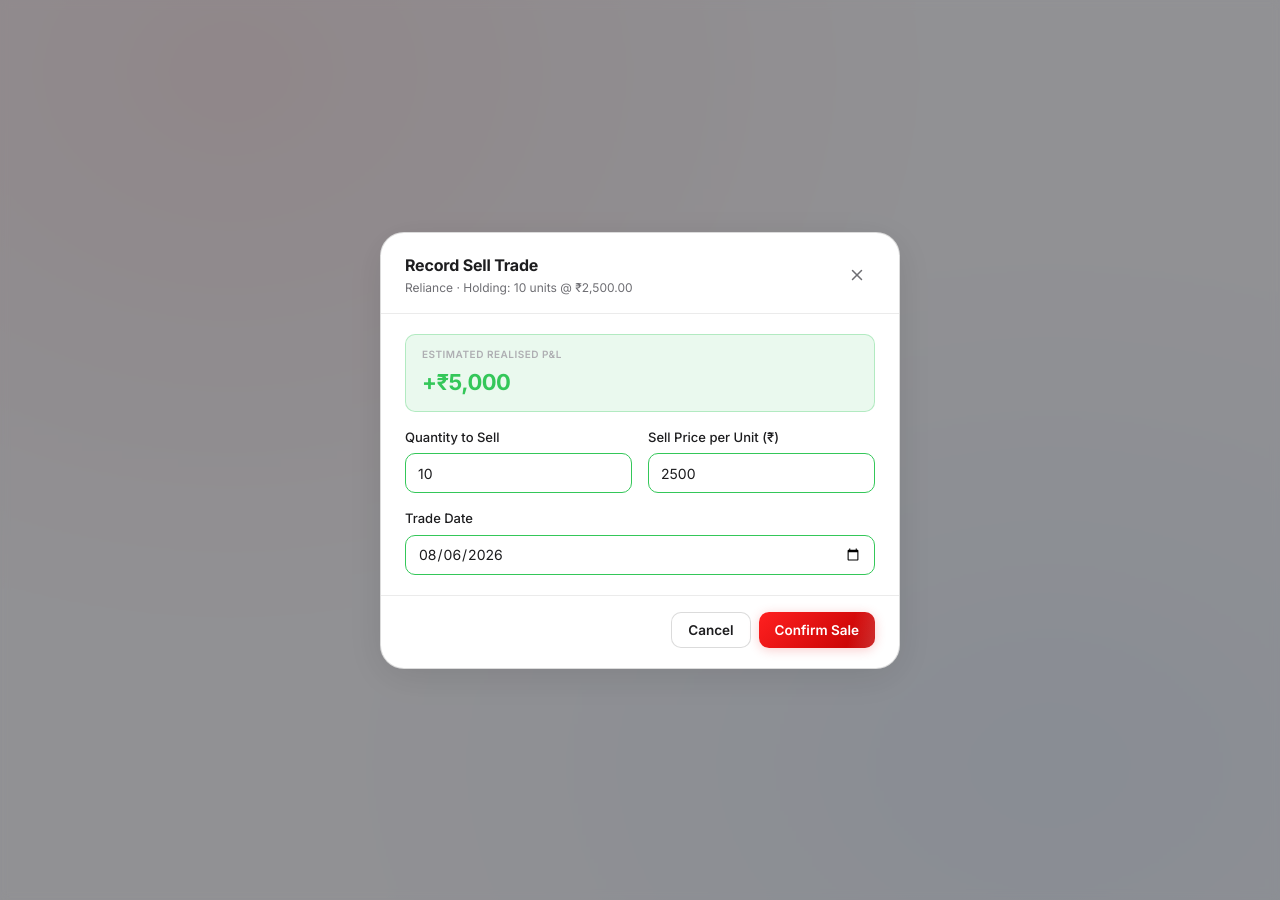
Scenario: SellForm — validation › shows error when sell price is 0
Replace the text in the number field showing "2500" below "Sell Price per Unit (₹)" with "0" at (762, 473), box [648,453,875,493]
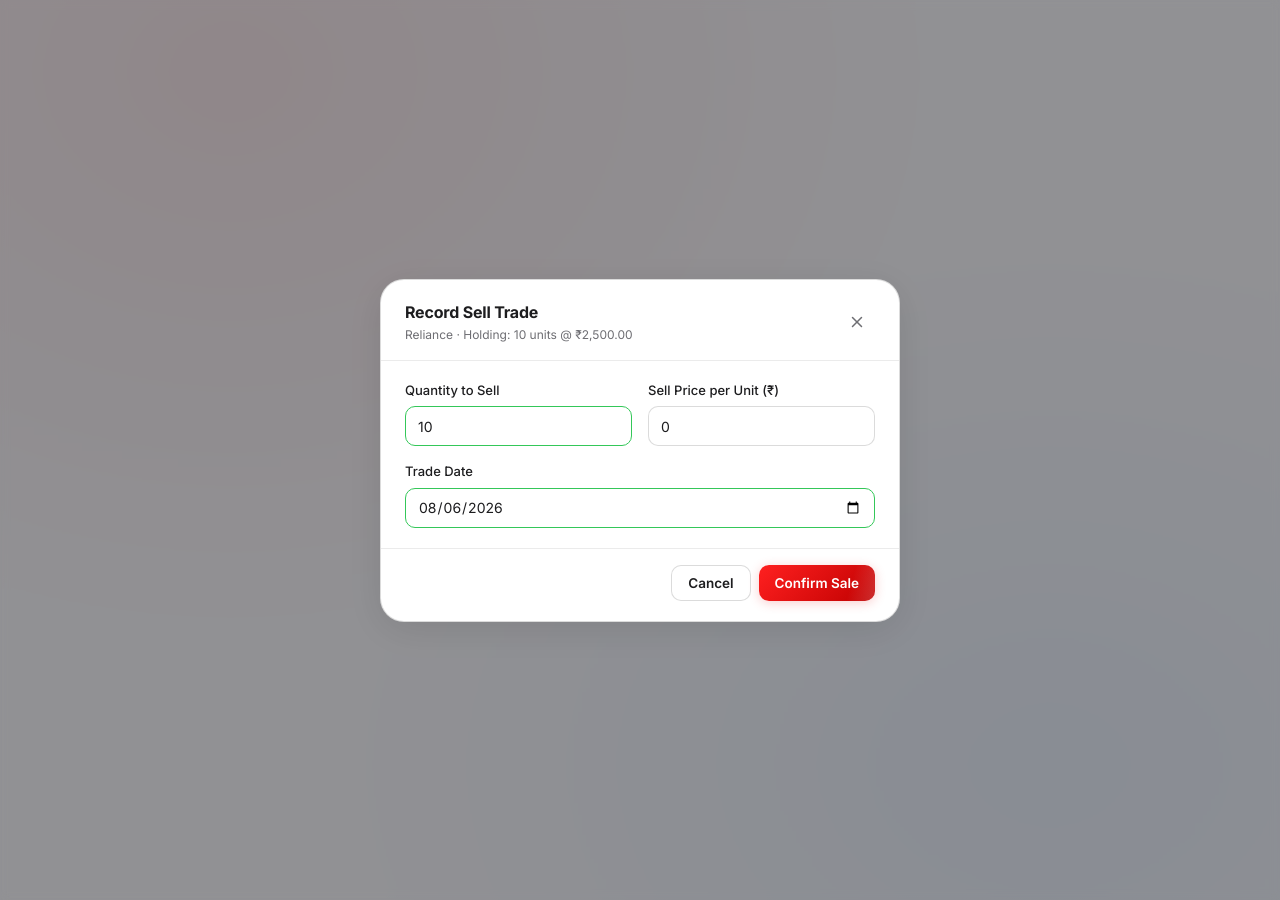
Click the button "Confirm Sale" at (817, 582), box [759,564,875,600]
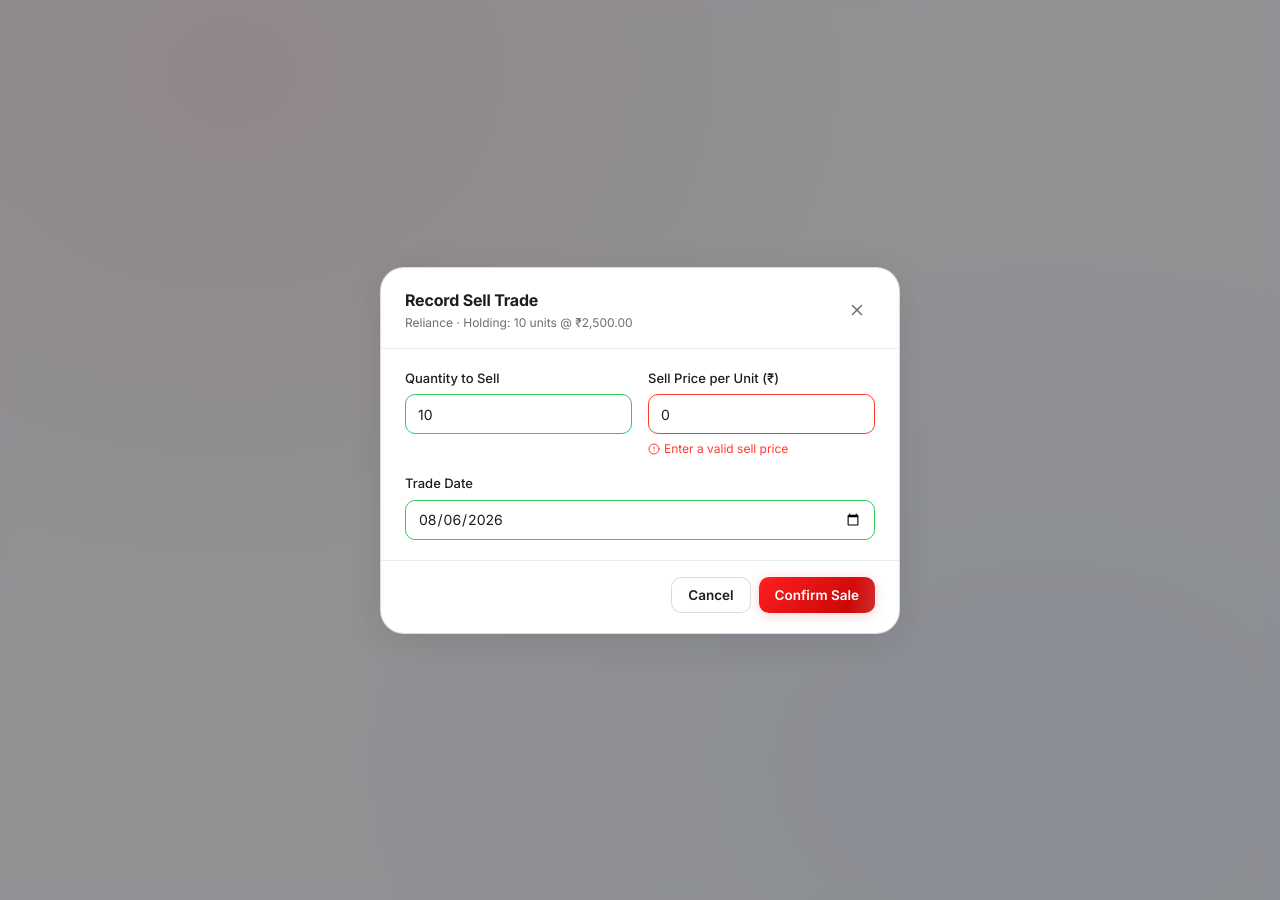
Expected: the text "Enter a valid sell price" is shown, [648,441,788,456]
